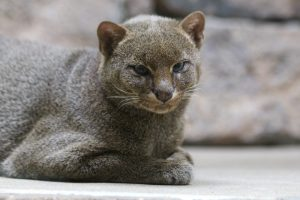Jaguarundi: (3, 10, 211, 186)
